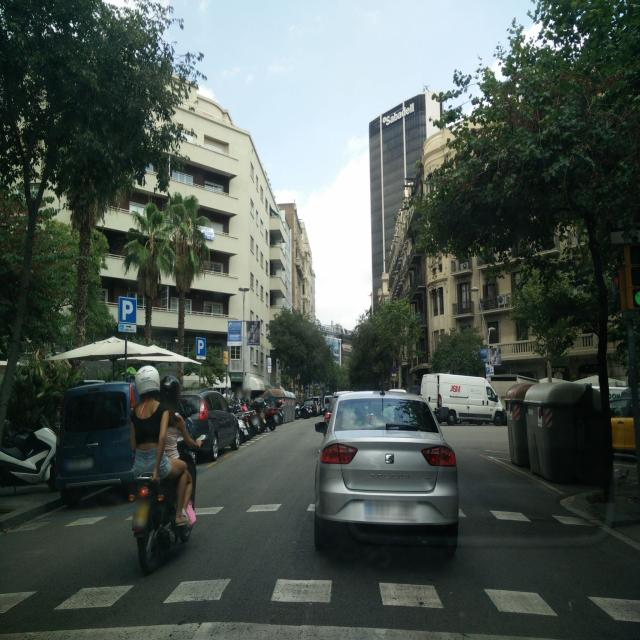bike: (126, 428, 203, 576), (230, 400, 264, 436), (248, 392, 280, 430), (229, 404, 250, 443), (294, 401, 310, 419)
car: (312, 389, 460, 559), (52, 378, 141, 508), (179, 388, 241, 460), (248, 392, 281, 428), (304, 399, 319, 416)
